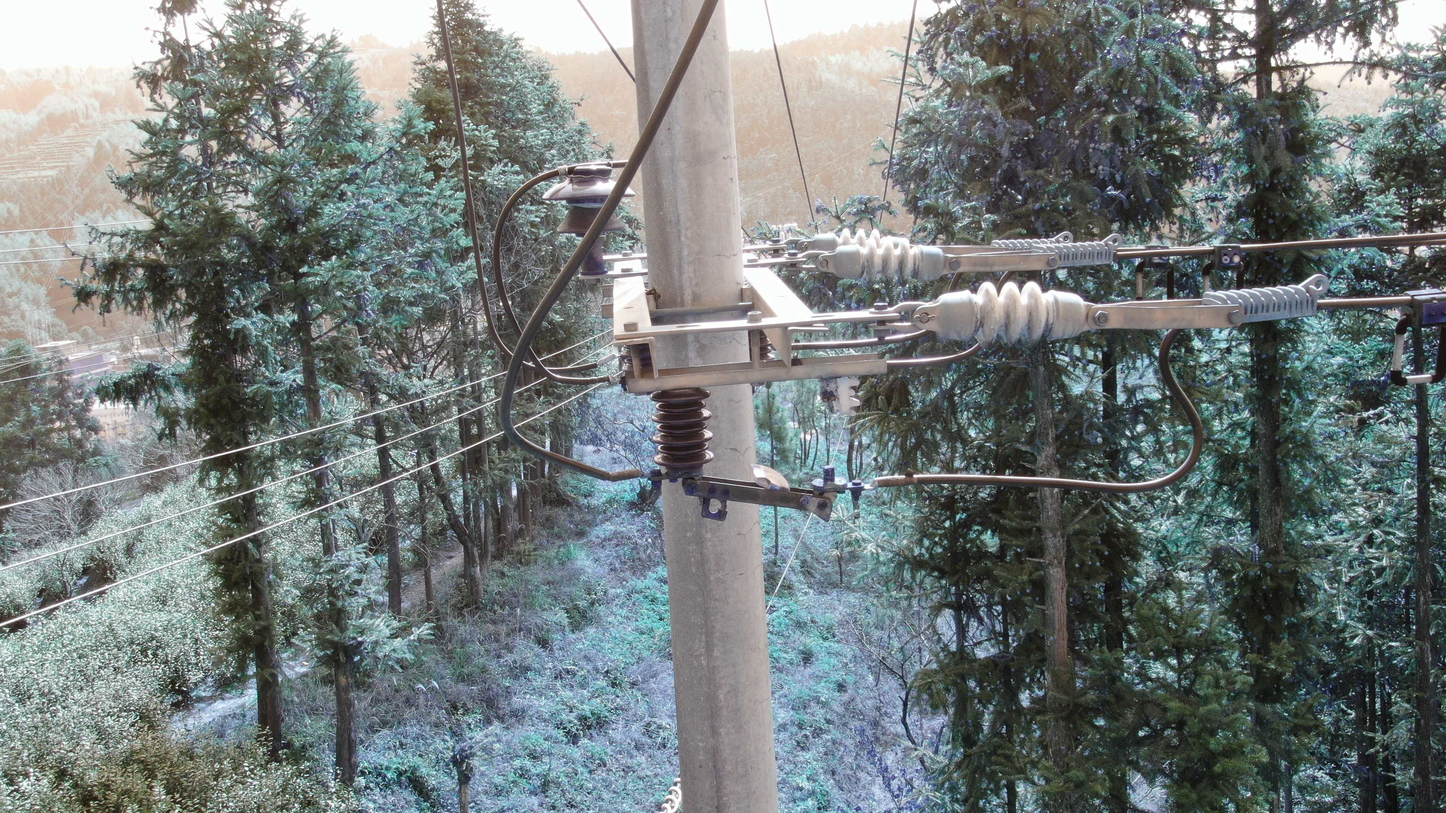severe_soiling_no_discharge_whole: (933, 278, 1090, 349), (809, 225, 948, 286)
